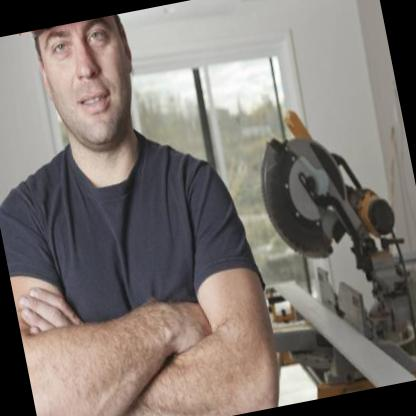helmet: (3, 9, 168, 166)
